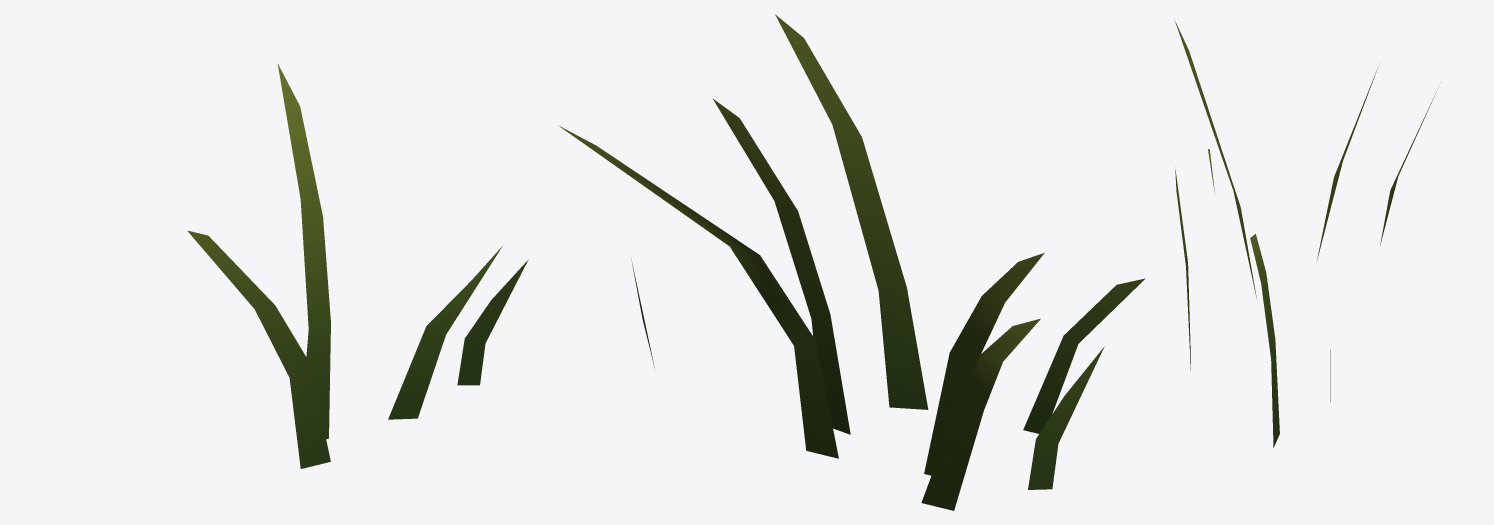
Rendered from grass_small.glb.
3 views of the same model, side by side, from view 1: azimuth 30°, elevation 25°; view 2: azimuth 150°, elevation 25°; view 3: azimuth 270°, elevation 25° (orthographic). The views are drawn at different scales.
Parts seen in each view (by area): view 1: Grass_Small; view 2: Grass_Small; view 3: Grass_Small.
Boxes of the visible parts, <box> form: Grass_Small: <box>187,63,528,468</box>; Grass_Small: <box>558,14,1145,510</box>; Grass_Small: <box>1175,21,1437,447</box>.
Bounding box in the file's own units: 0.47 × 0.3941 × 0.2775.
1 material, 1 textured.
